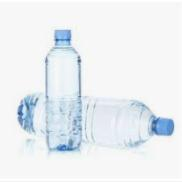bottle: (14, 90, 176, 152), (46, 26, 86, 157)
